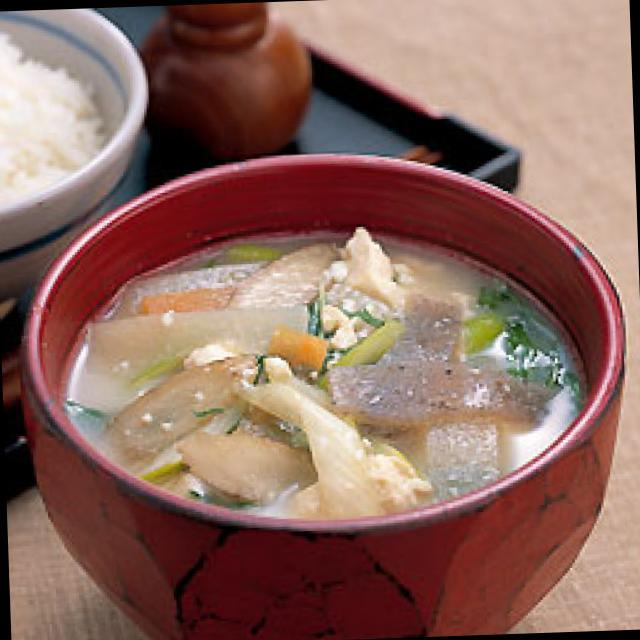Rice: (0, 15, 108, 201)
